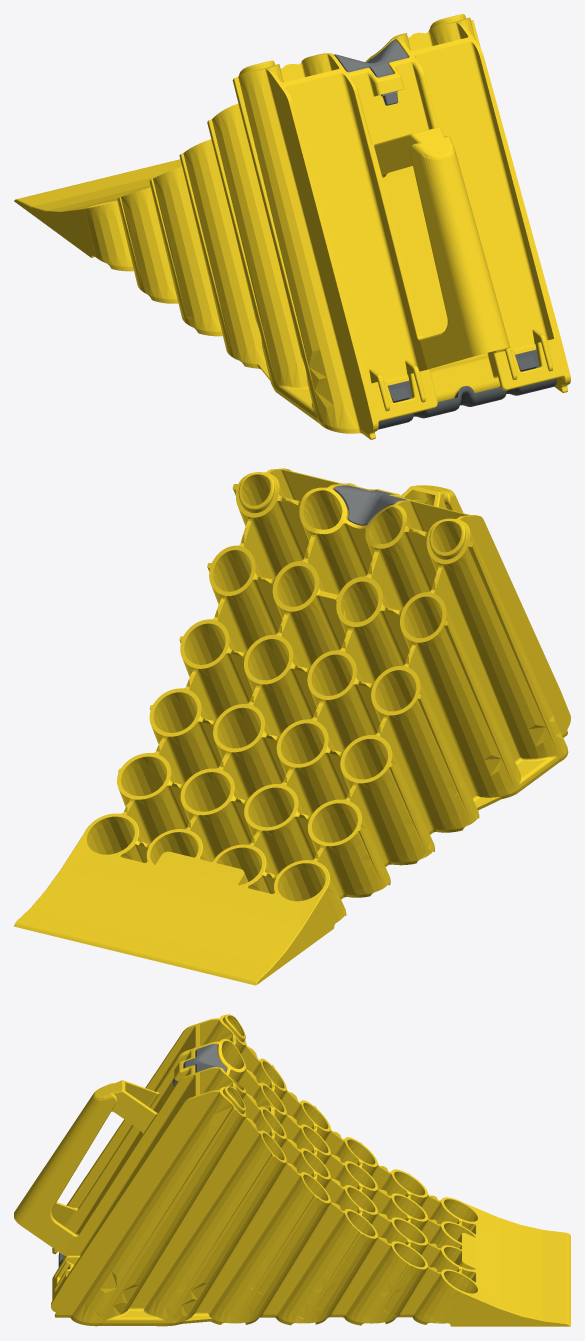
File: unterlegekeil_reco_g46_montato_v34456.glb
3 views of the same model, one above another, from view 1: azimuth 30°, elevation 25°; view 2: azimuth 150°, elevation 25°; view 3: azimuth 270°, elevation 25° (orthographic). The views are drawn at different scales.
Parts seen in each view (by area): view 1: G46_body_yellow, G46_base_insert, G46_handle_pin; view 2: G46_body_yellow, G46_handle_pin; view 3: G46_body_yellow, G46_handle_pin.
Part boxes in pixels (bbox=[...]): G46_body_yellow: bbox=[14, 14, 570, 439]; G46_base_insert: bbox=[378, 349, 557, 429]; G46_handle_pin: bbox=[334, 40, 407, 105]; G46_body_yellow: bbox=[14, 468, 570, 985]; G46_handle_pin: bbox=[334, 485, 407, 525]; G46_body_yellow: bbox=[14, 1014, 570, 1326]; G46_handle_pin: bbox=[173, 1044, 226, 1085].
Size of the model in its own units: 0.1621 by 0.1959 by 0.4181.
